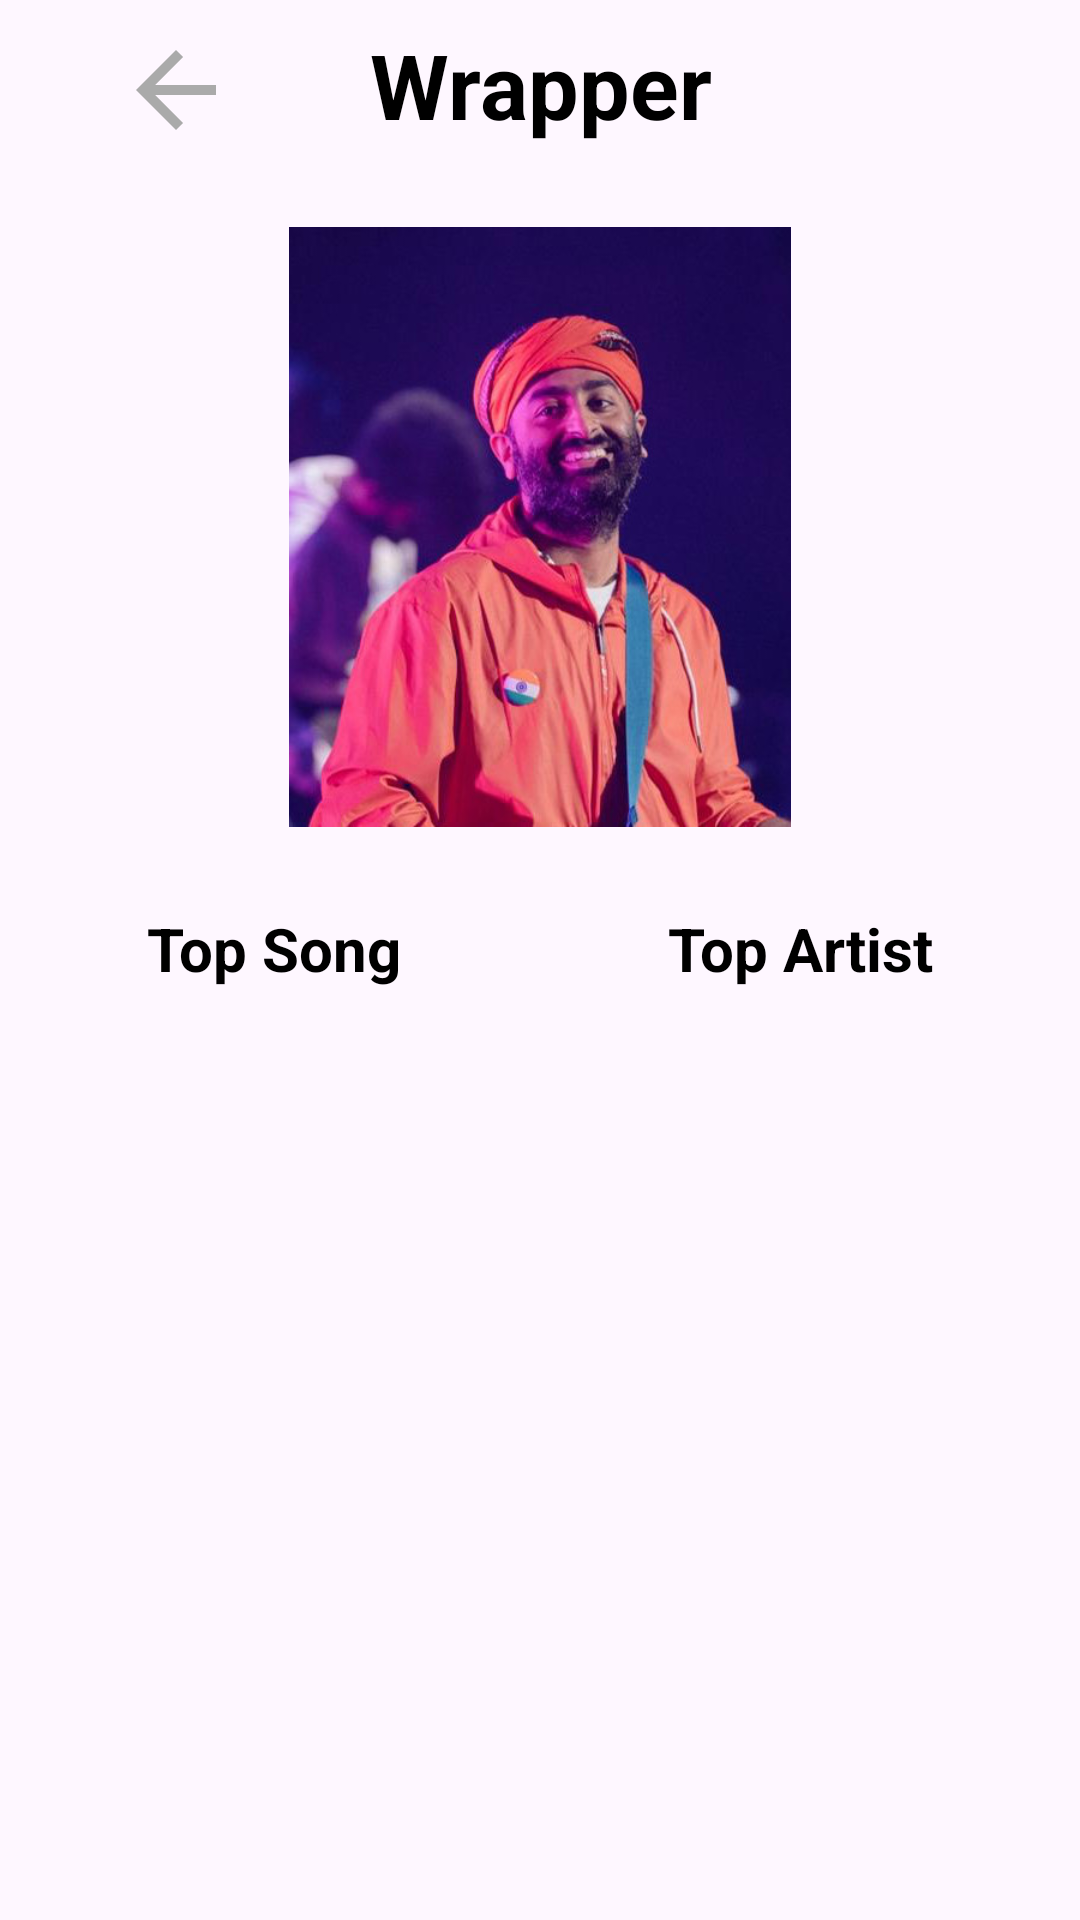

Screen size 1080x1920. Icon name, then its box in pixels as (x1, y1, x2, y2):
arrow back: (136, 50, 216, 130)
